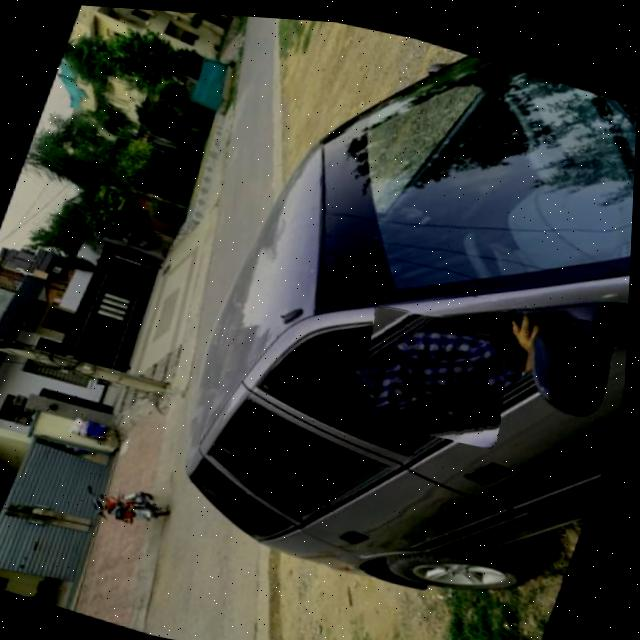seatbelt: (359, 294, 520, 442)
